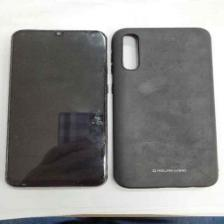phone: (4, 25, 109, 189)
